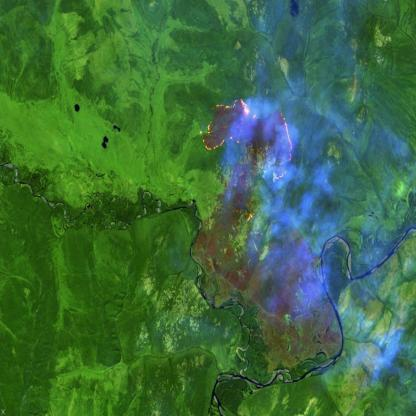fire: (196, 90, 296, 226)
